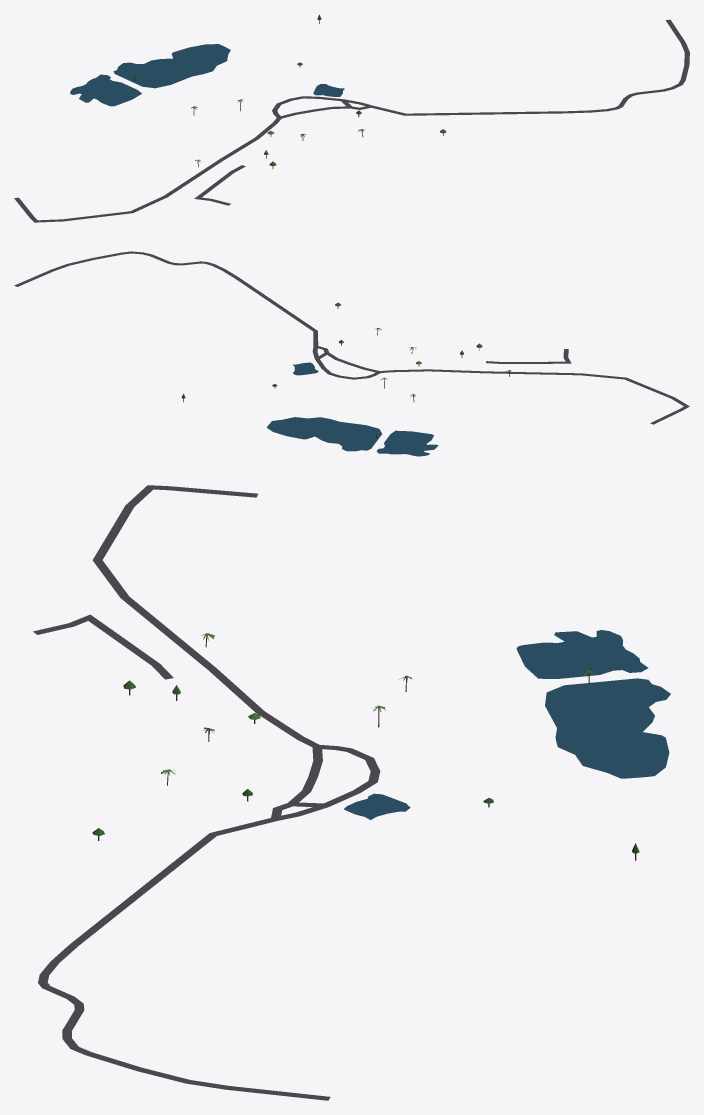
3 renders of one model, top to bottom at view 1: azimuth 30°, elevation 25°; view 2: azimuth 150°, elevation 25°; view 3: azimuth 270°, elevation 25°, orthographic. The views are drawn at different scales.
Visible parts, largest first — view 1: Water__r-2c1, Roads_Minor__r-2c1; view 2: Water__r-2c1, Roads_Minor__r-2c1; view 3: Water__r-2c1, Roads_Minor__r-2c1.
Part boxes in pixels (x1,y1,x2,y2): Water__r-2c1: (70,44,344,106); Roads_Minor__r-2c1: (14,19,689,222); Water__r-2c1: (267,362,438,456); Roads_Minor__r-2c1: (14,251,689,424); Water__r-2c1: (344,630,670,819); Roads_Minor__r-2c1: (33,485,380,1100).
Bounding box in the file's own units: 606 × 10.28 × 265.
